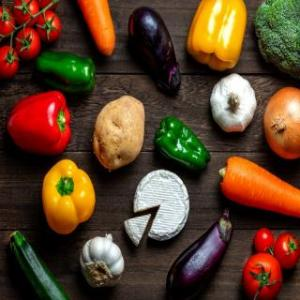carrot: (218, 157, 300, 217), (78, 1, 114, 56)
eggplant: (159, 209, 233, 297), (127, 5, 181, 94)
onion: (263, 87, 299, 161)
